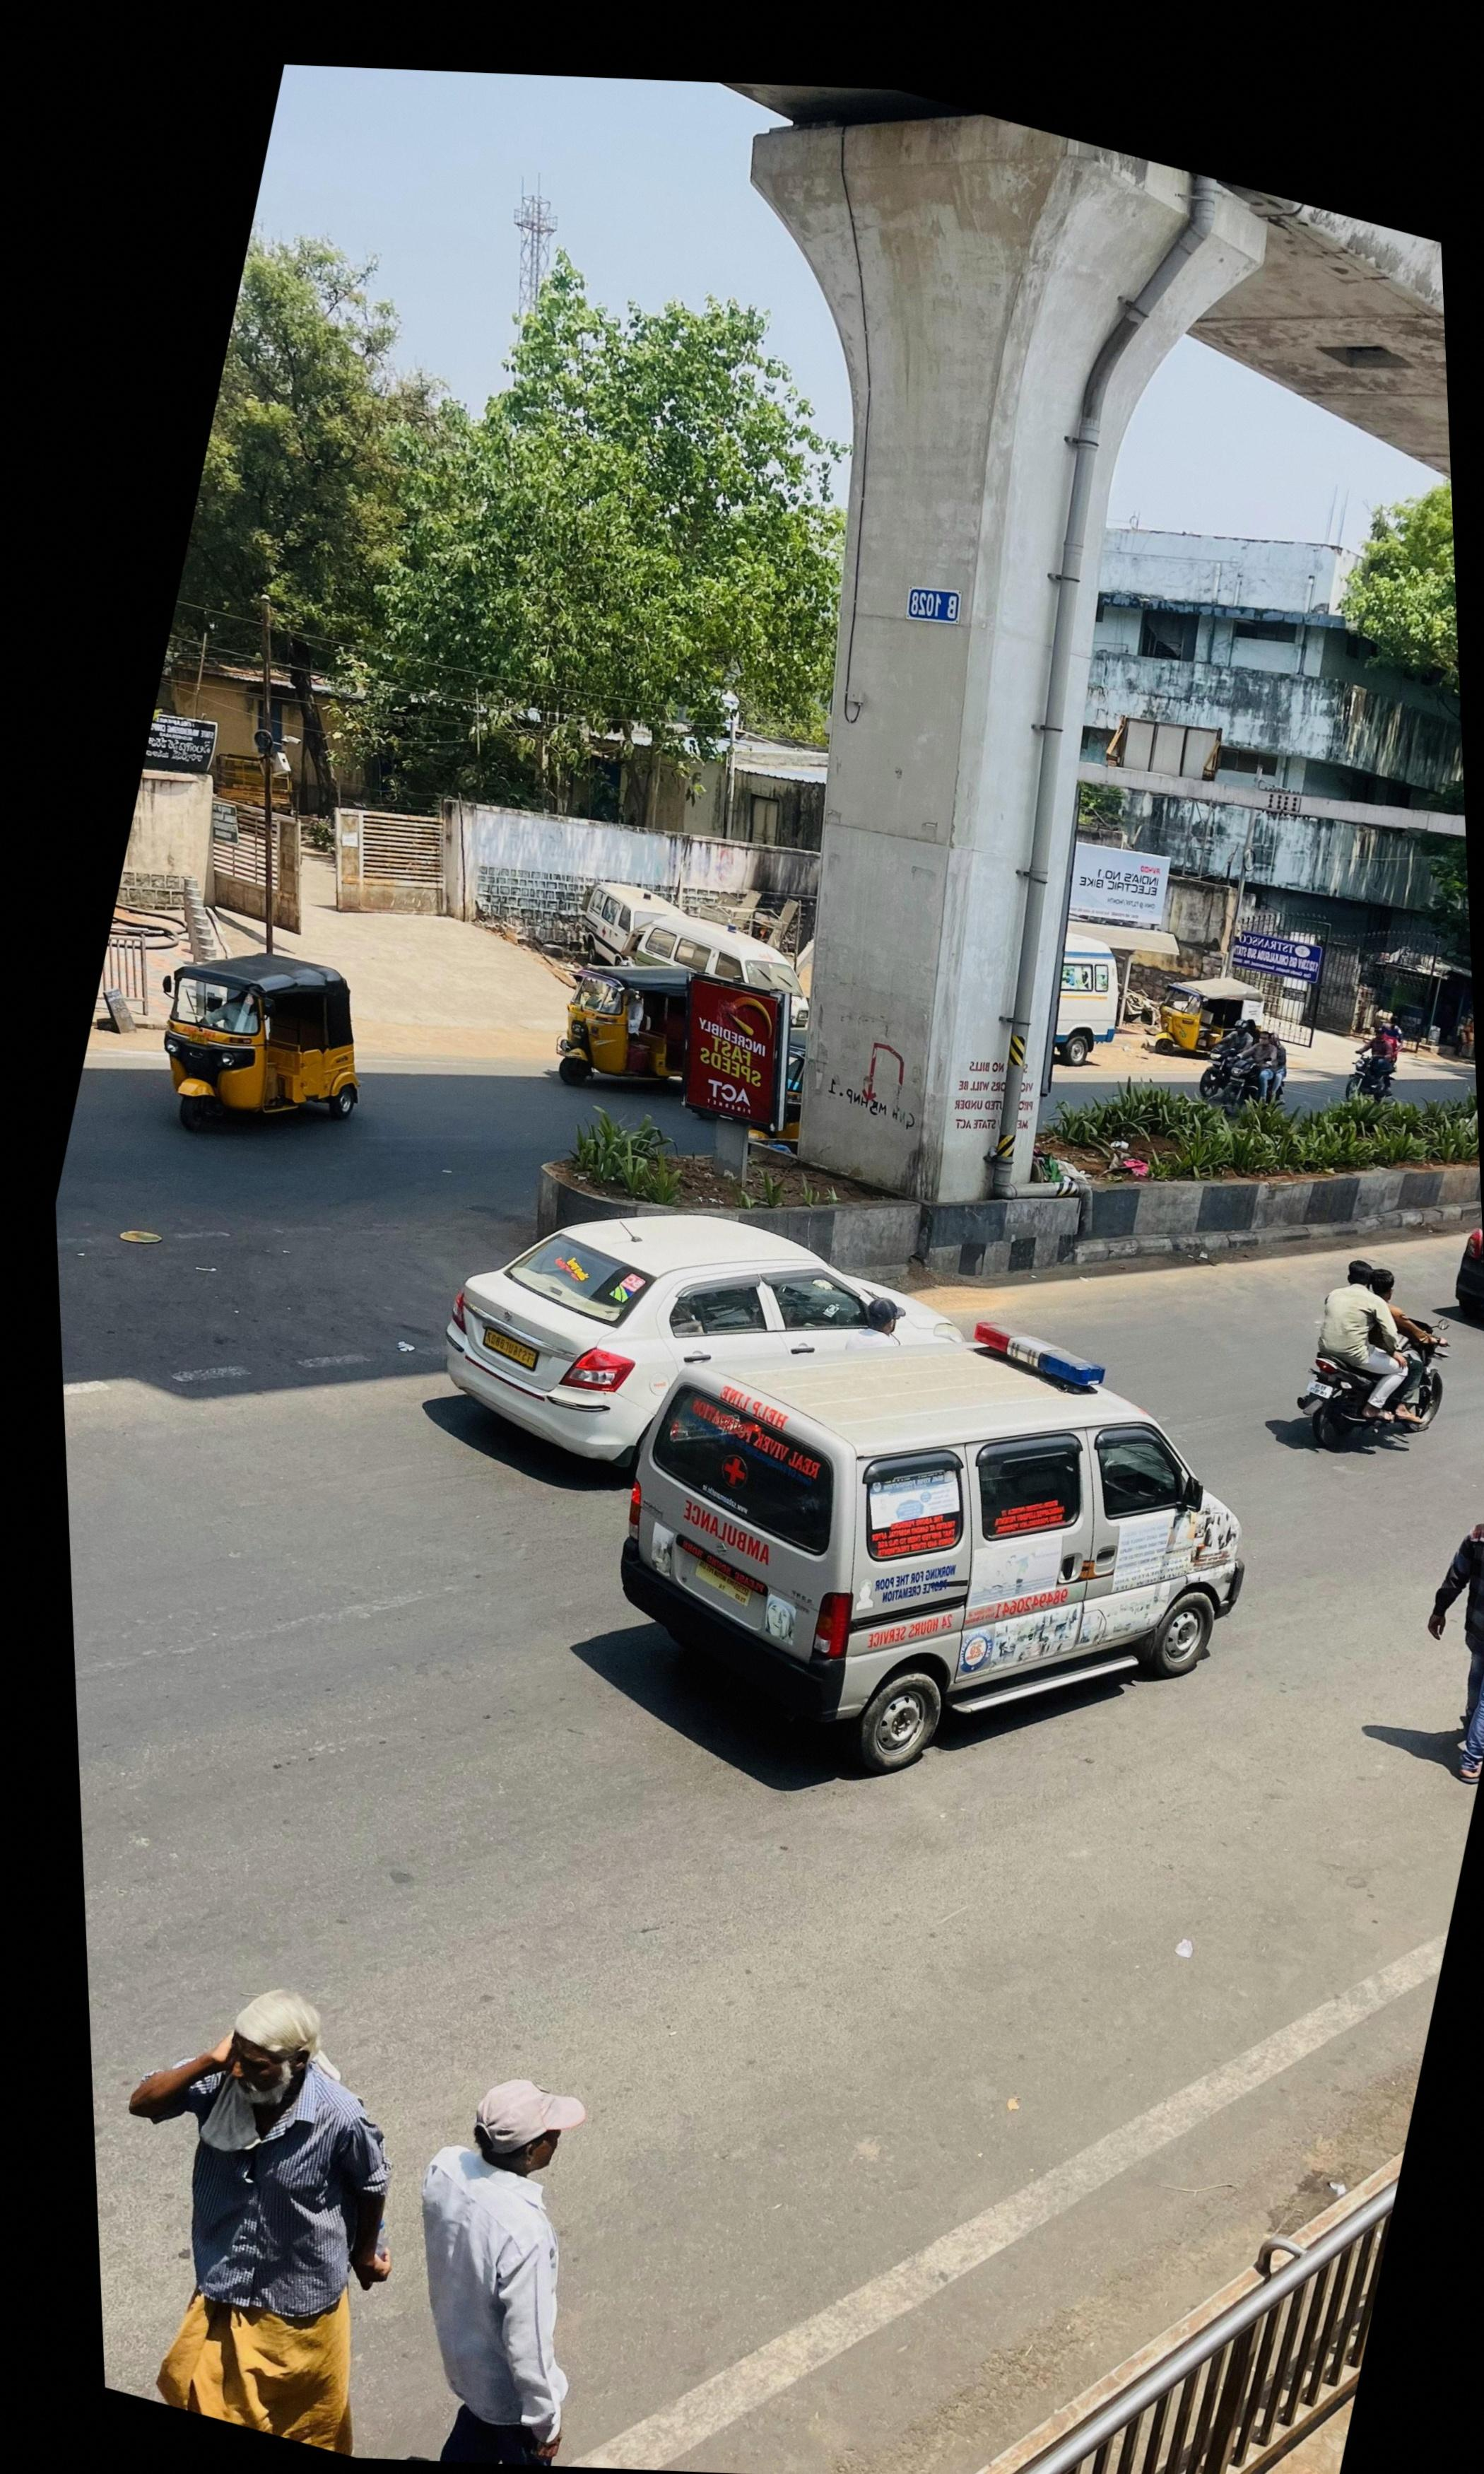ambulance: (622, 1318, 1245, 1778)
